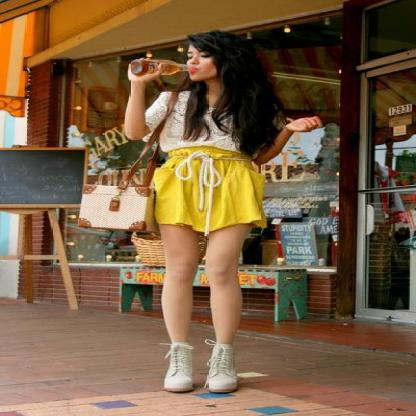bag: (79, 125, 171, 229)
shirt: (146, 91, 235, 150)
shoe: (163, 334, 237, 389)
skirt: (156, 145, 260, 236)
